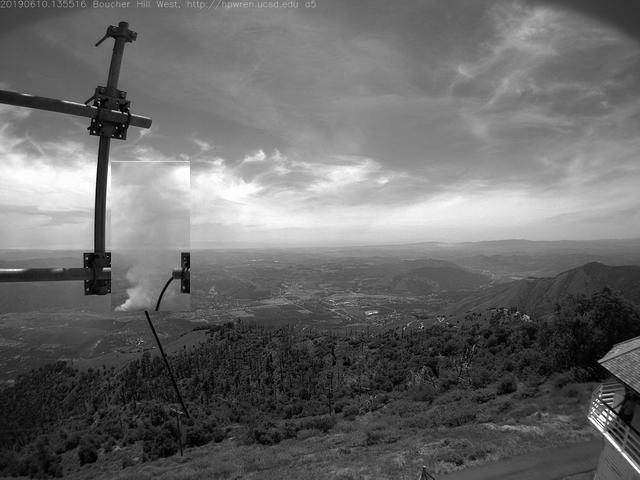smoke: (112, 162, 192, 313)
